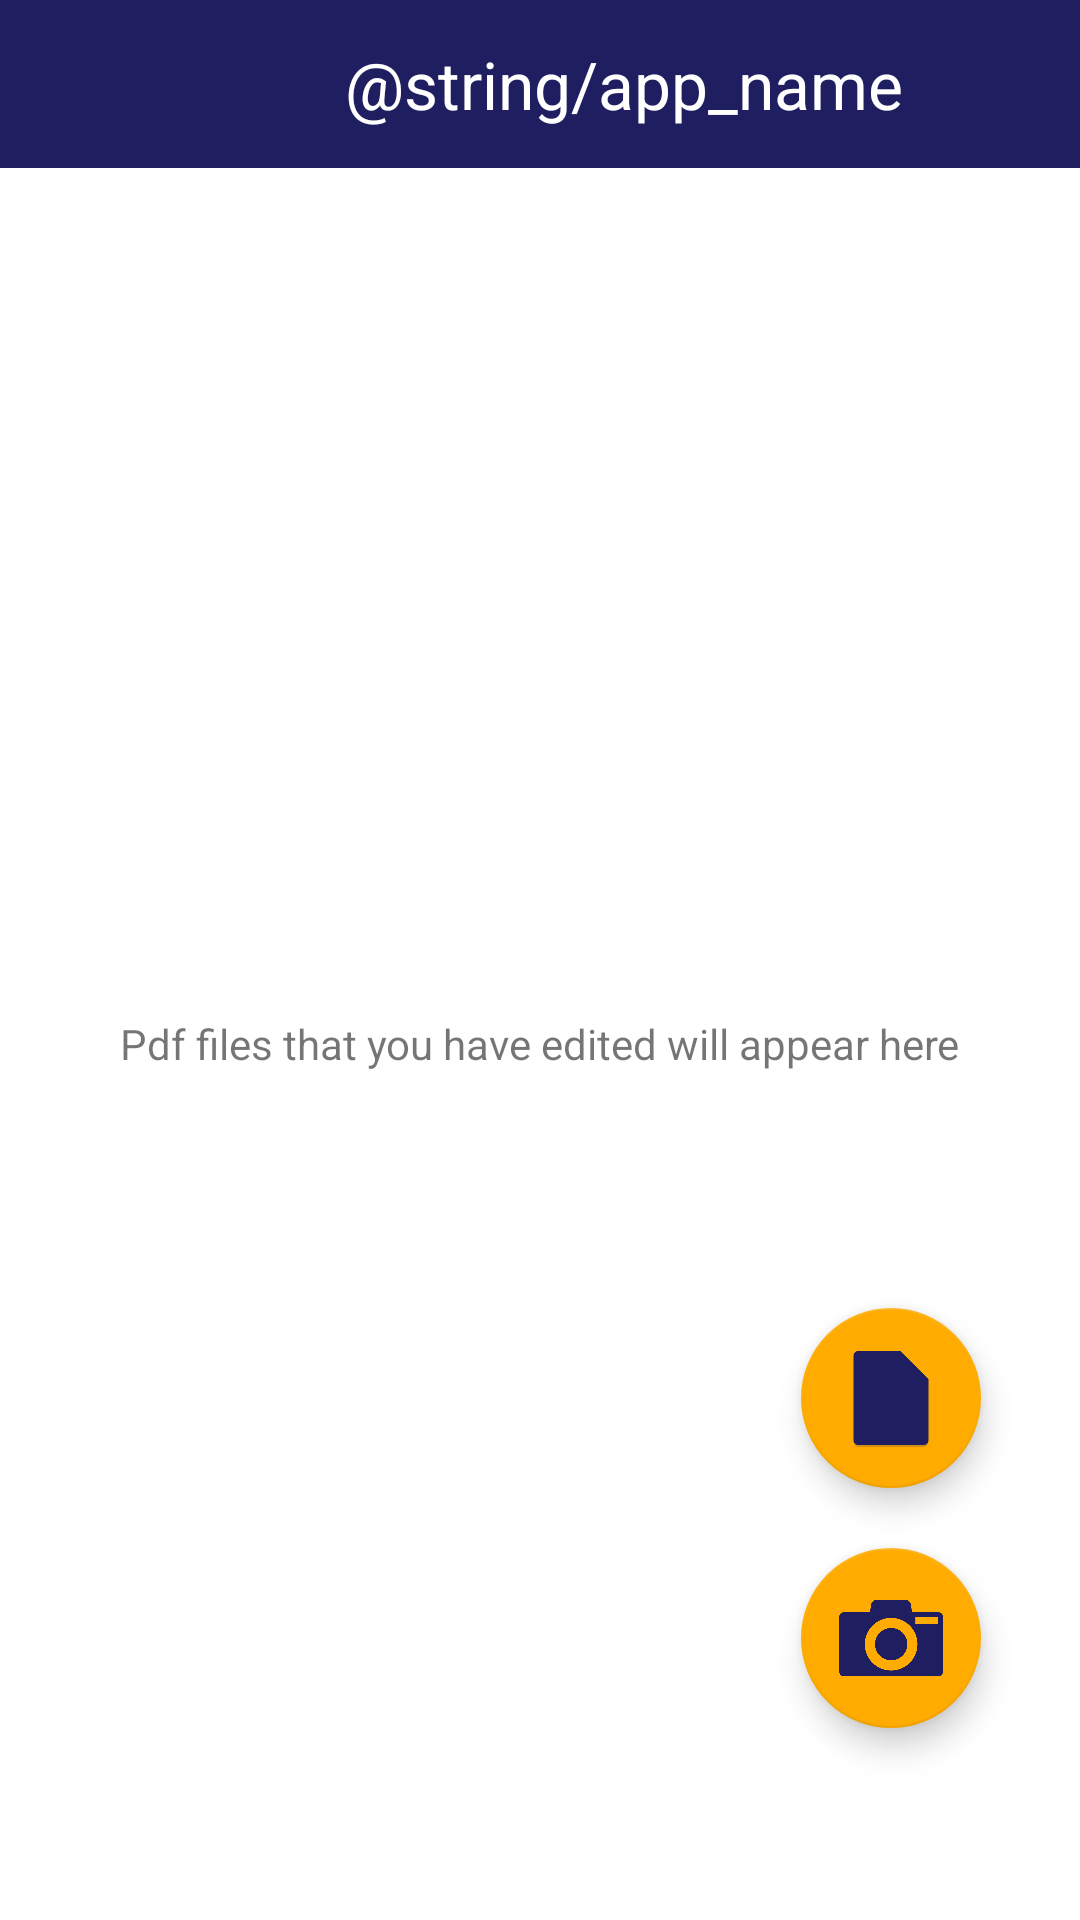

Where to tap for icons on this 1080px×1920px app screen, as point (x, y):
cameraic: point (891, 1638)
document: point (891, 1398)
